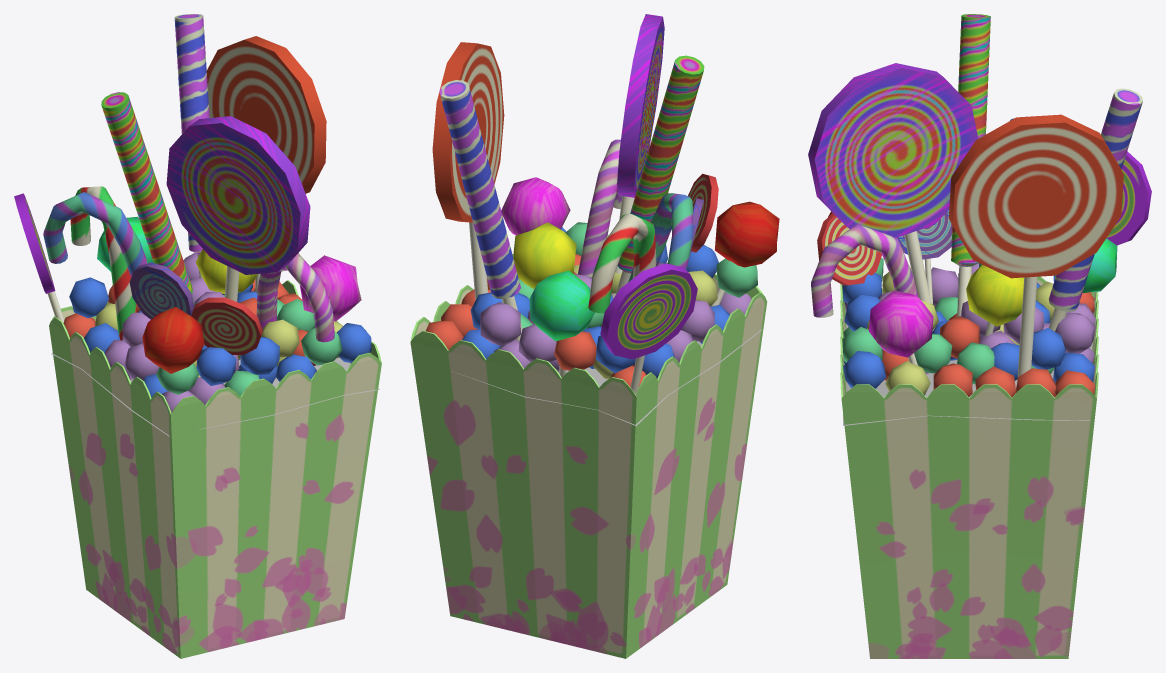
The model's file is Candy box 1.fbx.
3 views of the same model, side by side, from view 1: azimuth 30°, elevation 25°; view 2: azimuth 150°, elevation 25°; view 3: azimuth 270°, elevation 25° (orthographic). The views are drawn at different scales.
Parts seen in each view (by area): view 1: Candies37_low1; view 2: Candies37_low1; view 3: Candies37_low1.
Part boxes in pixels (box(x1,y1,x2,y2)): Candies37_low1: box(14, 14, 381, 658); Candies37_low1: box(410, 14, 779, 658); Candies37_low1: box(808, 14, 1151, 658).
Bounding box in the file's own units: 45.2 × 90.46 × 50.78.
